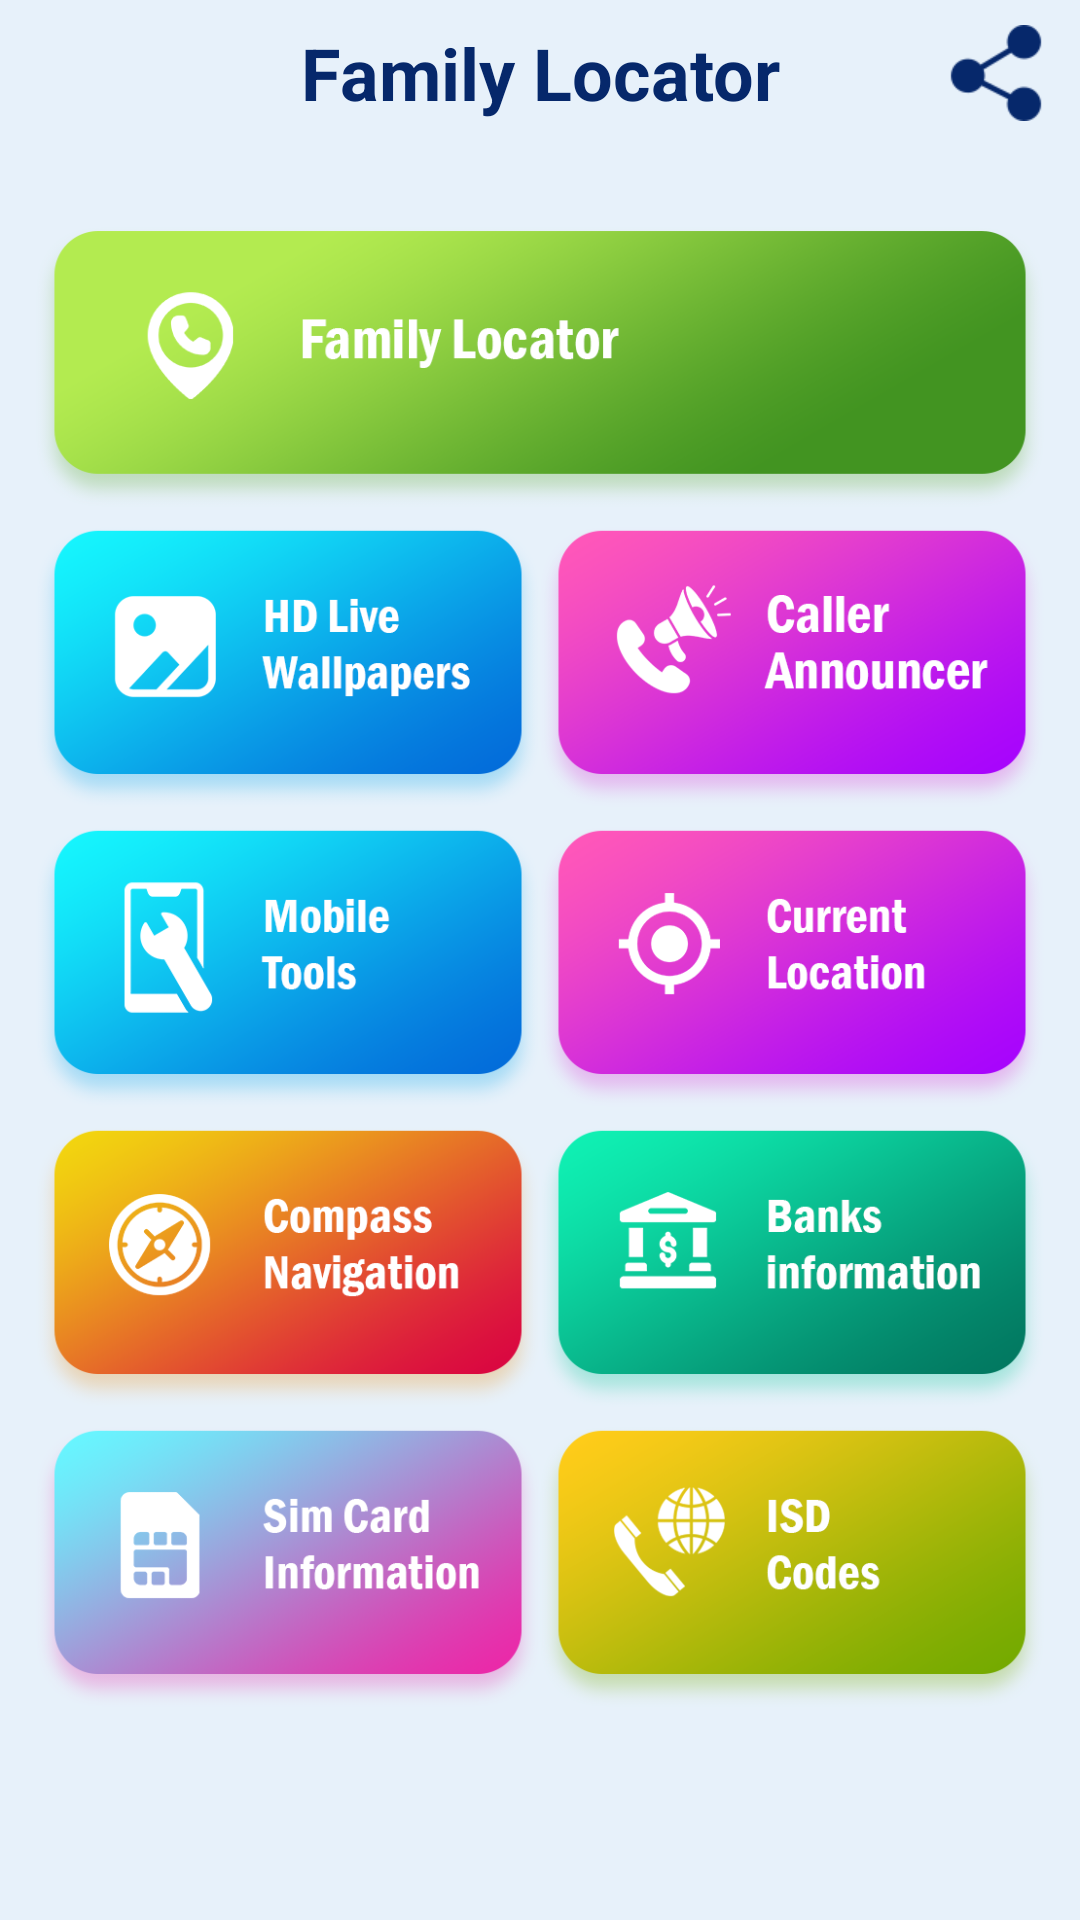

Point at icon controls on the screen. Image size 1080 x 1920, points as [x,y].
share: [996,73]
